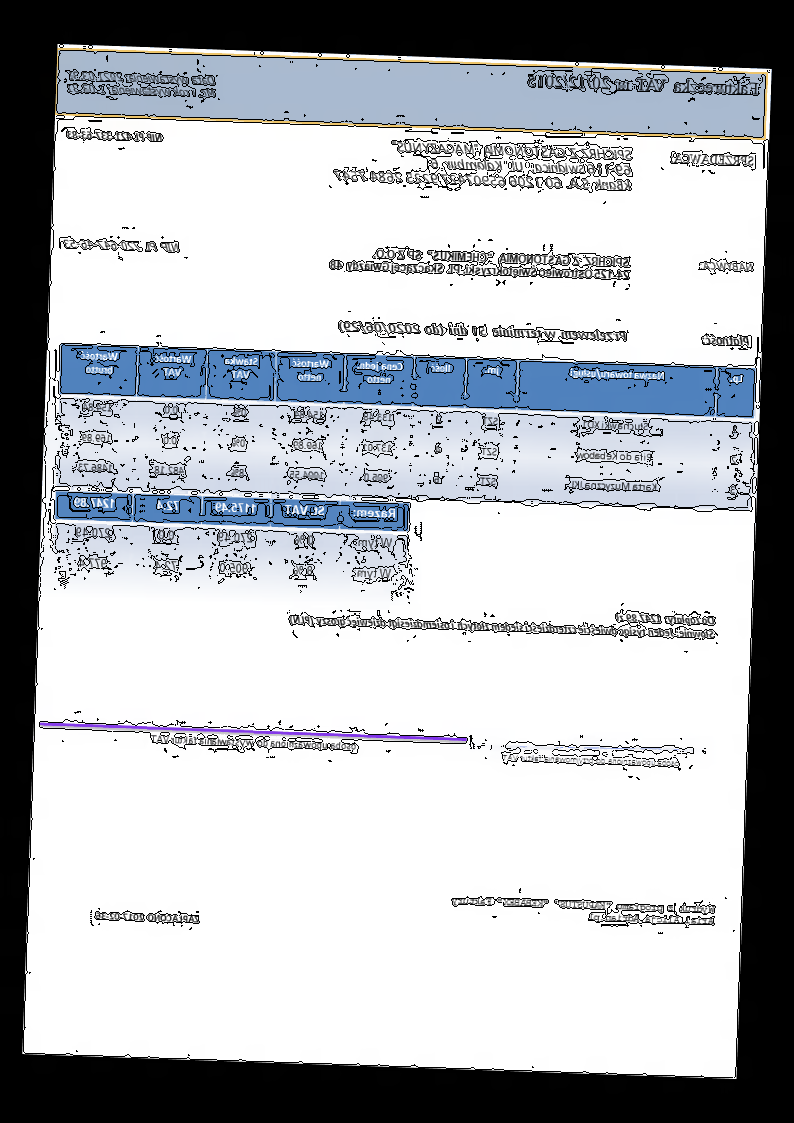Table: (56, 342, 758, 510), (51, 490, 411, 596)
TextBox: (288, 598, 718, 643), (331, 136, 637, 196), (328, 243, 634, 285), (449, 894, 718, 927), (337, 319, 628, 343), (526, 70, 761, 98), (65, 67, 218, 102), (148, 732, 359, 754), (501, 750, 681, 769), (62, 236, 182, 255), (64, 125, 165, 145), (94, 908, 203, 925), (668, 150, 758, 170), (698, 258, 755, 274), (701, 331, 753, 348)
